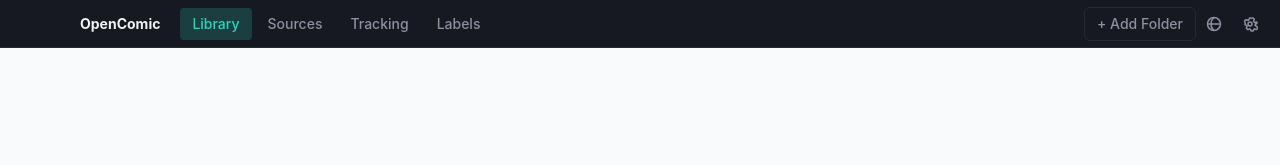
Test: TopNav – settings dropdown › selecting a mode closes the dropdown
Click the button named "settings".
click(1250, 24)  # box [1236, 10, 1264, 38]
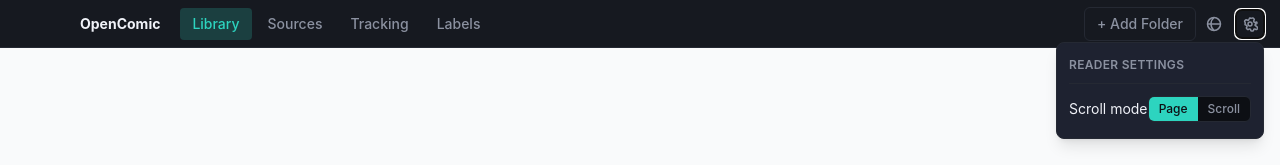
Click the button "Scroll".
click(1224, 108)  # box [1198, 96, 1250, 120]
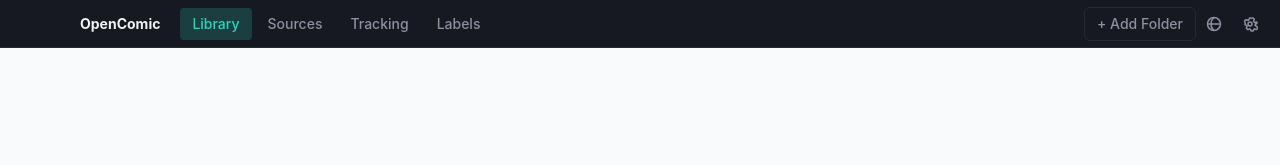
Now the text "Reader Settings" is gone
